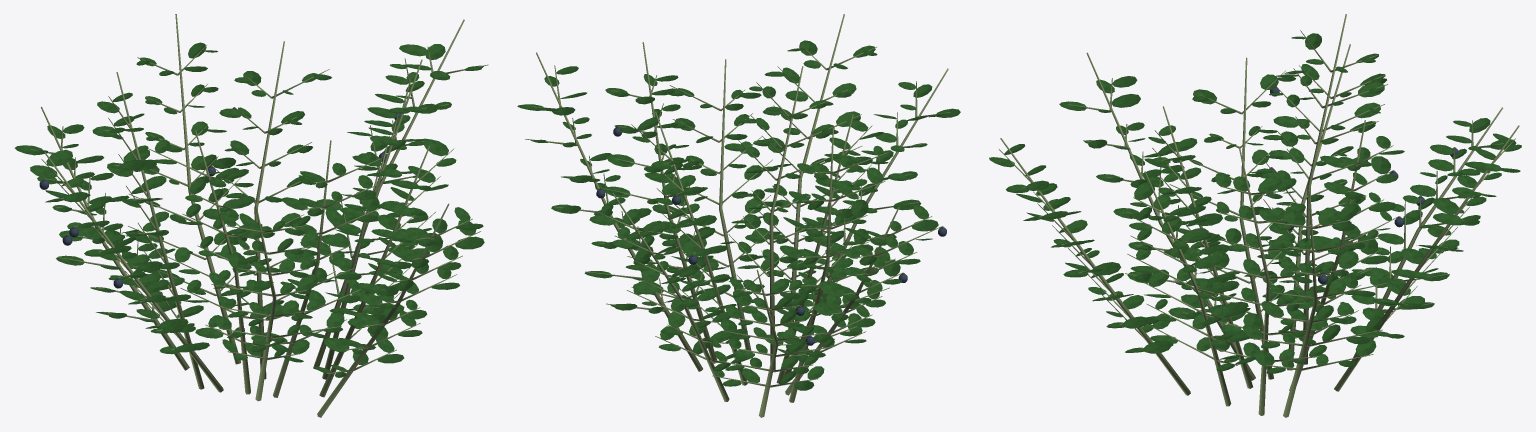
File: Bilberry_Type_Cover_01_LOD1.fbx
3 renders of one model, left to right at view 1: azimuth 30°, elevation 25°; view 2: azimuth 150°, elevation 25°; view 3: azimuth 270°, elevation 25°, orthographic. The views are drawn at different scales.
Parts seen in each view (by area): view 1: Bilberry_Type_Cover_01_LOD1_Mesh; view 2: Bilberry_Type_Cover_01_LOD1_Mesh; view 3: Bilberry_Type_Cover_01_LOD1_Mesh.
Part boxes in pixels (x1,y1,x2,y2): Bilberry_Type_Cover_01_LOD1_Mesh: (14,14,488,417); Bilberry_Type_Cover_01_LOD1_Mesh: (517,14,960,417); Bilberry_Type_Cover_01_LOD1_Mesh: (989,14,1521,417).
Size of the model in its own units: 66.76 by 47.82 by 72.14.
4 materials, 1 textured.
